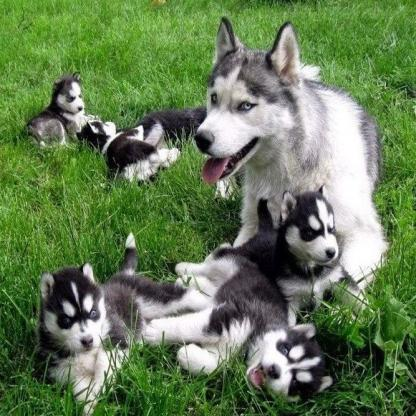husky: (194, 13, 384, 298), (140, 249, 340, 406), (34, 230, 144, 375), (236, 184, 344, 278), (83, 109, 178, 183), (24, 68, 98, 141)
